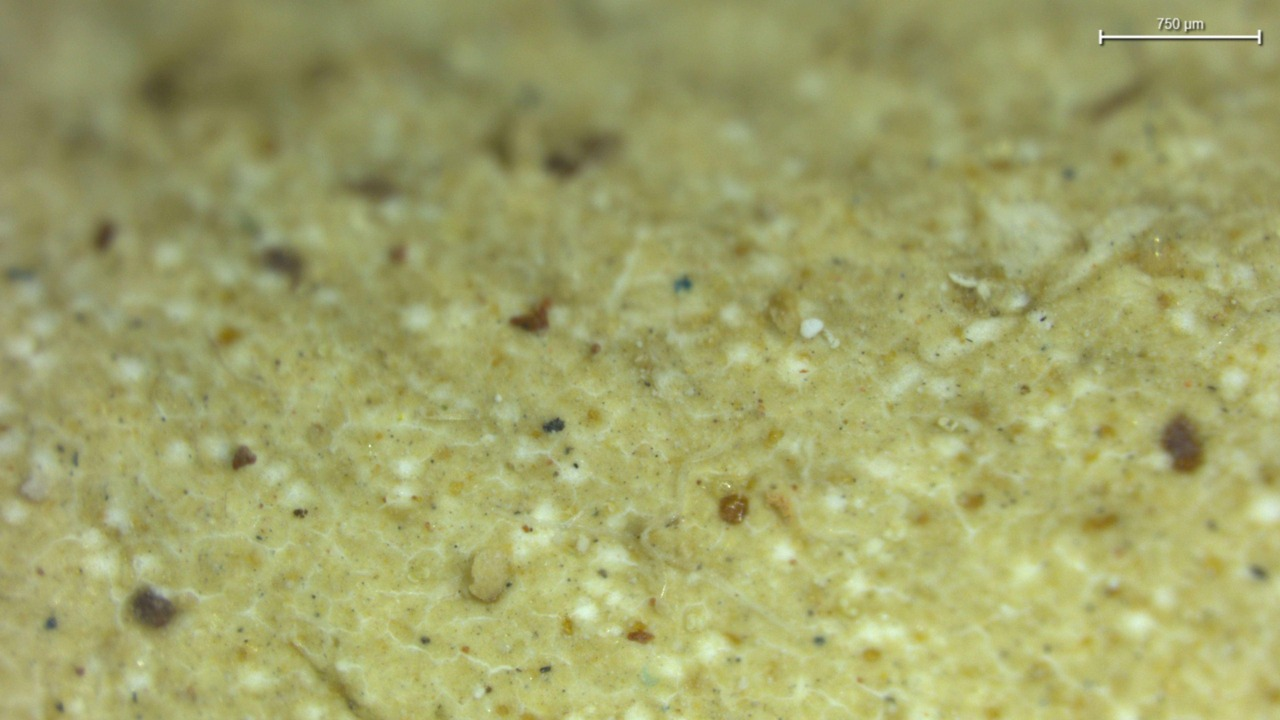microplastic_fragment: (469, 548, 515, 600)
